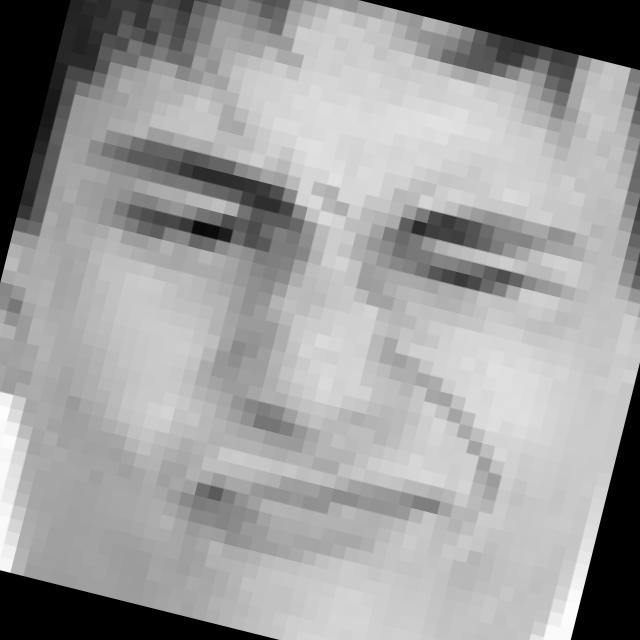disgust: (3, 94, 602, 628)
